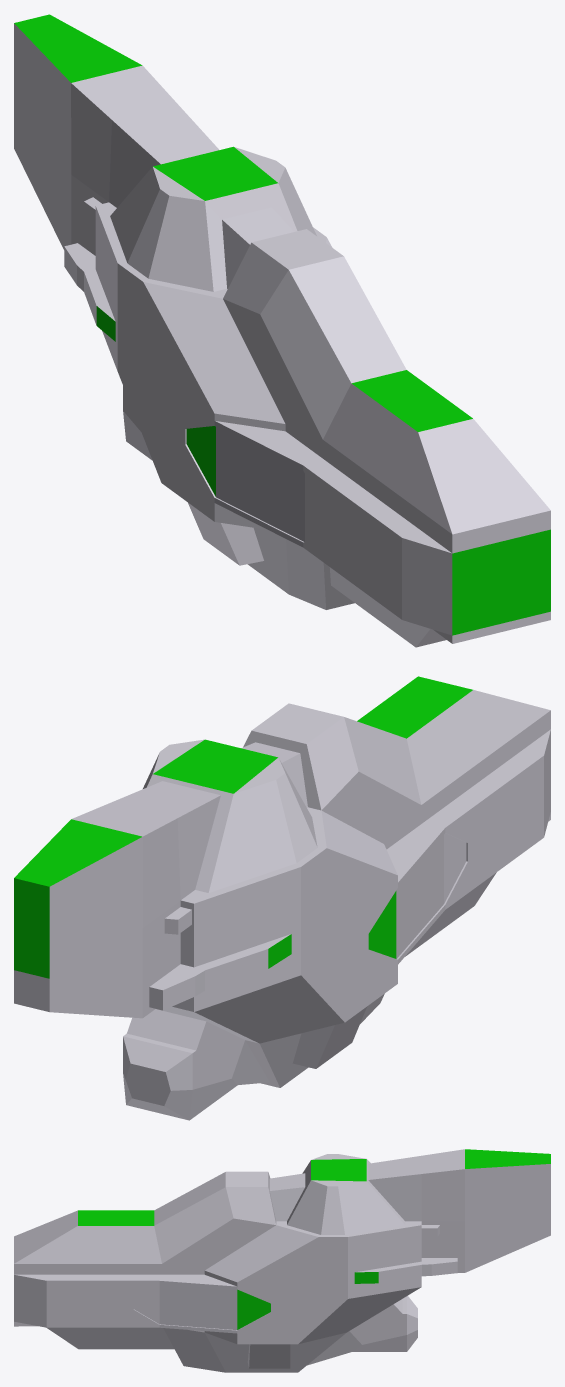
Rendered from hull.angle.fbx.
3 renders of one model, top to bottom at view 1: azimuth 30°, elevation 25°; view 2: azimuth 150°, elevation 25°; view 3: azimuth 270°, elevation 25°, orthographic. The views are drawn at different scales.
Parts seen in each view (by area): view 1: hull.angle; view 2: hull.angle; view 3: hull.angle.
Part boxes in pixels (x1=…): hull.angle: x1=14, y1=14, x2=550, y2=647; hull.angle: x1=14, y1=676, x2=550, y2=1120; hull.angle: x1=14, y1=1149, x2=550, y2=1372.
Bounding box in the file's own units: 1.15 × 2.17 × 5.11.
